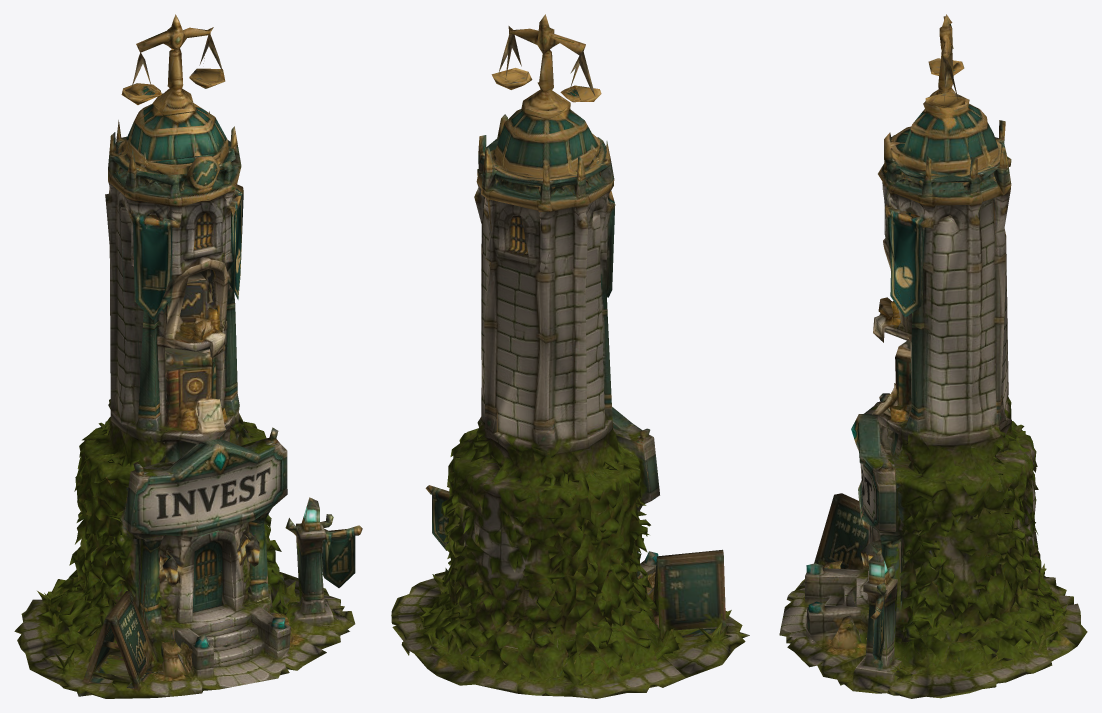
The model's file is life-invest.glb.
3 renders of one model, left to right at view 1: azimuth 30°, elevation 25°; view 2: azimuth 150°, elevation 25°; view 3: azimuth 270°, elevation 25°, orthographic. The views are drawn at different scales.
Parts seen in each view (by area): view 1: Mesh1.0; view 2: Mesh1.0; view 3: Mesh1.0.
Boxes of the visible parts, x1,y1,x2,y2 form: Mesh1.0: (14,14,362,698); Mesh1.0: (391,14,749,698); Mesh1.0: (779,14,1087,698).
Bounding box in the file's own units: 1.02 × 1.9 × 0.8684.
Materials: 1 (1 with a texture image).
